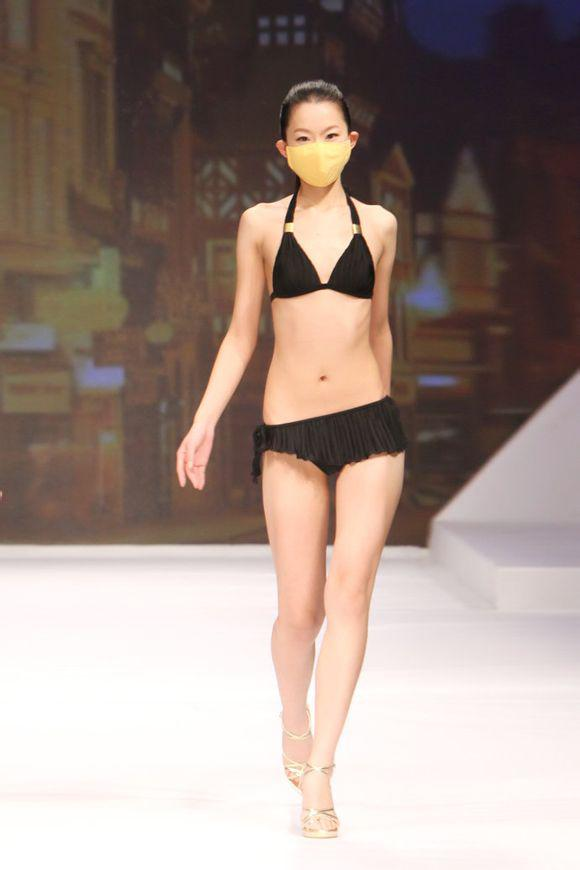OK: (287, 118, 357, 188)
